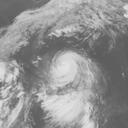cyclone: (46, 49, 94, 93)
